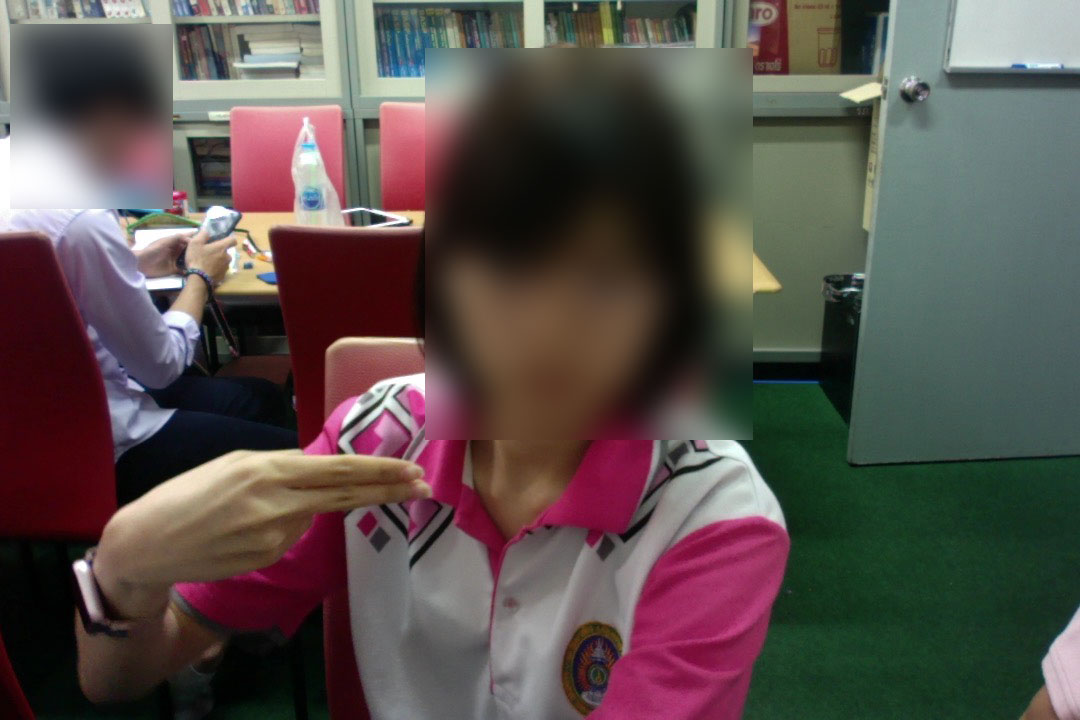hor: (88, 436, 445, 592)
